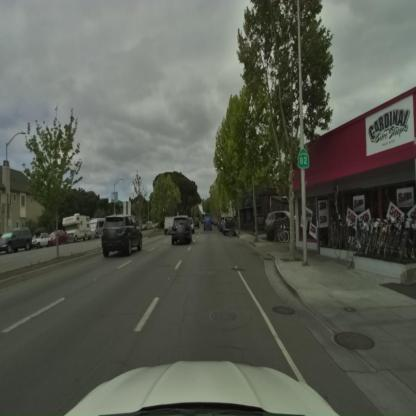car: (102, 215, 144, 258), (0, 230, 32, 256), (265, 211, 290, 241), (218, 209, 238, 243), (169, 218, 194, 245), (201, 210, 215, 237), (31, 232, 52, 248), (47, 230, 69, 245), (90, 218, 106, 238)
truck: (63, 214, 92, 242)
